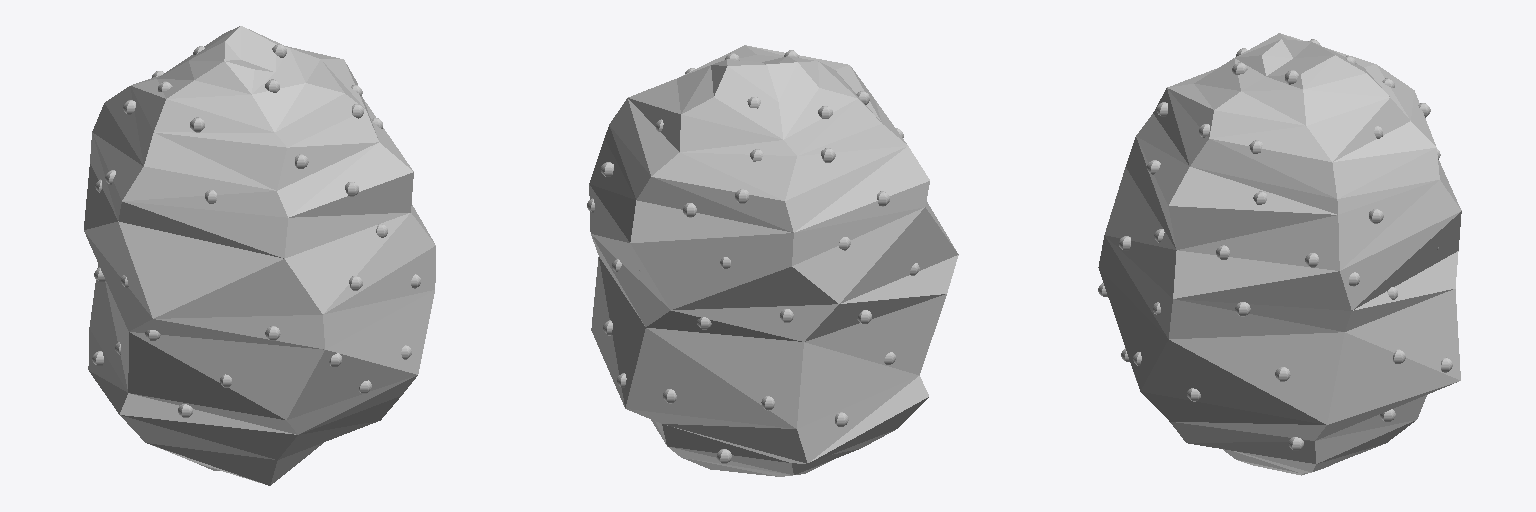
File: bushonly.obj
3 renders of one model, left to right at view 1: azimuth 30°, elevation 25°; view 2: azimuth 150°, elevation 25°; view 3: azimuth 270°, elevation 25°, orthographic.
Visible parts, largest first — view 1: Sphere.001_Sphere.002; view 2: Sphere.001_Sphere.002; view 3: Sphere.001_Sphere.002.
Part boxes in pixels (x1,y1,x2,y2): Sphere.001_Sphere.002: (84, 26, 435, 485); Sphere.001_Sphere.002: (589, 45, 958, 476); Sphere.001_Sphere.002: (1098, 33, 1461, 475).
Bounding box in the file's own units: 3.54 × 4.57 × 3.64.